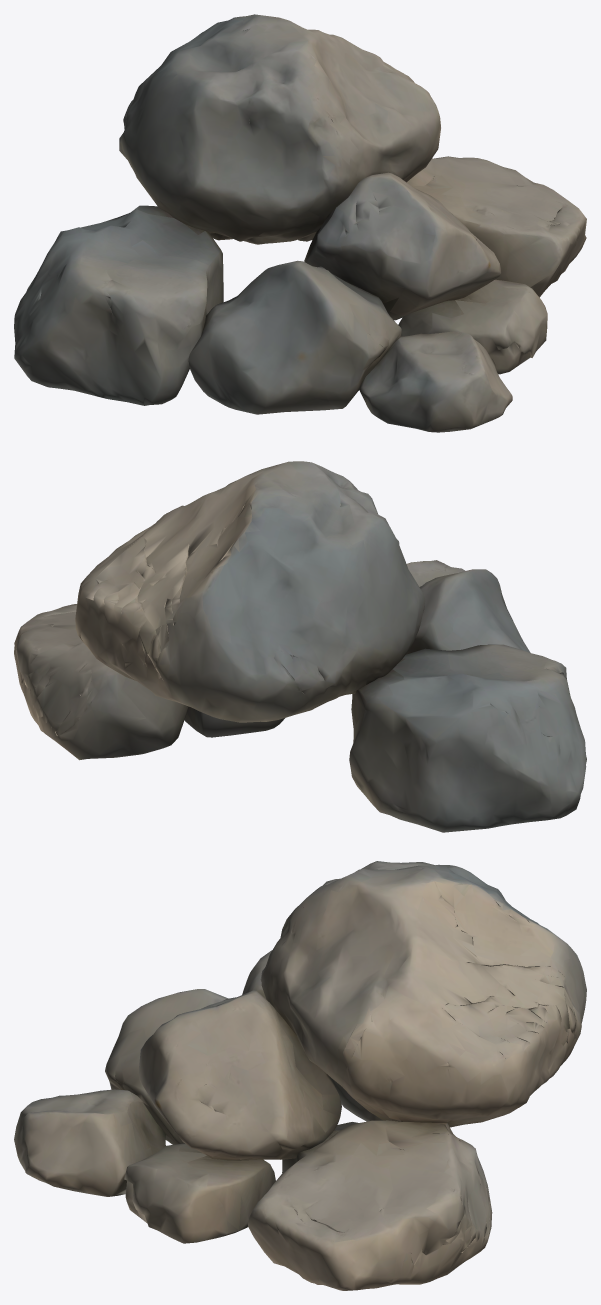
File: rock_pile.glb
3 views of the same model, one above another, from view 1: azimuth 30°, elevation 25°; view 2: azimuth 150°, elevation 25°; view 3: azimuth 270°, elevation 25° (orthographic). The views are drawn at different scales.
Parts seen in each view (by area): view 1: tripo_node_cd935880-6921-4c40-9a6c-824a5d799c42; view 2: tripo_node_cd935880-6921-4c40-9a6c-824a5d799c42; view 3: tripo_node_cd935880-6921-4c40-9a6c-824a5d799c42.
Boxes of the visible parts, x1,y1,x2,y2 form: tripo_node_cd935880-6921-4c40-9a6c-824a5d799c42: [14, 14, 586, 432]; tripo_node_cd935880-6921-4c40-9a6c-824a5d799c42: [14, 461, 586, 832]; tripo_node_cd935880-6921-4c40-9a6c-824a5d799c42: [14, 861, 586, 1290].
Bounding box in the file's own units: 1.43 × 0.6998 × 1.22.
Materials: 1 (1 with a texture image).
